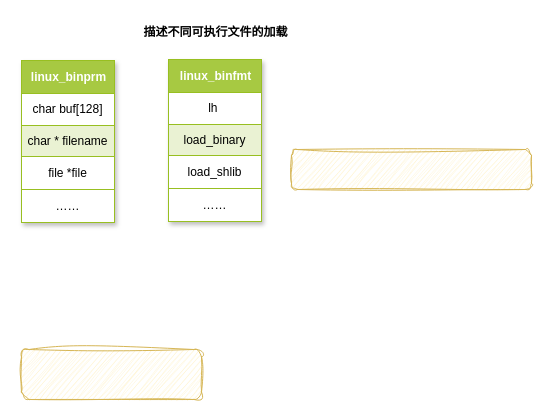
This 549x417 diagram has some shape labels left out. Here are the shapes that lost their labels. From the top down, the centre of each, then its label:
[411,169]: do_execve --> do_execveat_common
[111,374]: do_execve |-->do_execveat_common |--> __do_execve_file
